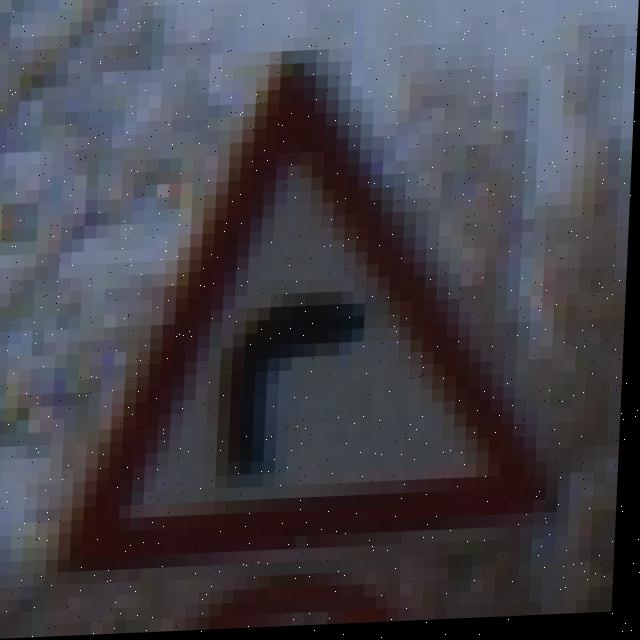right_turn: (65, 36, 586, 557)
